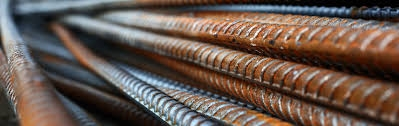metal: (89, 28, 399, 124), (46, 22, 216, 126), (1, 8, 69, 126), (183, 2, 399, 22)
